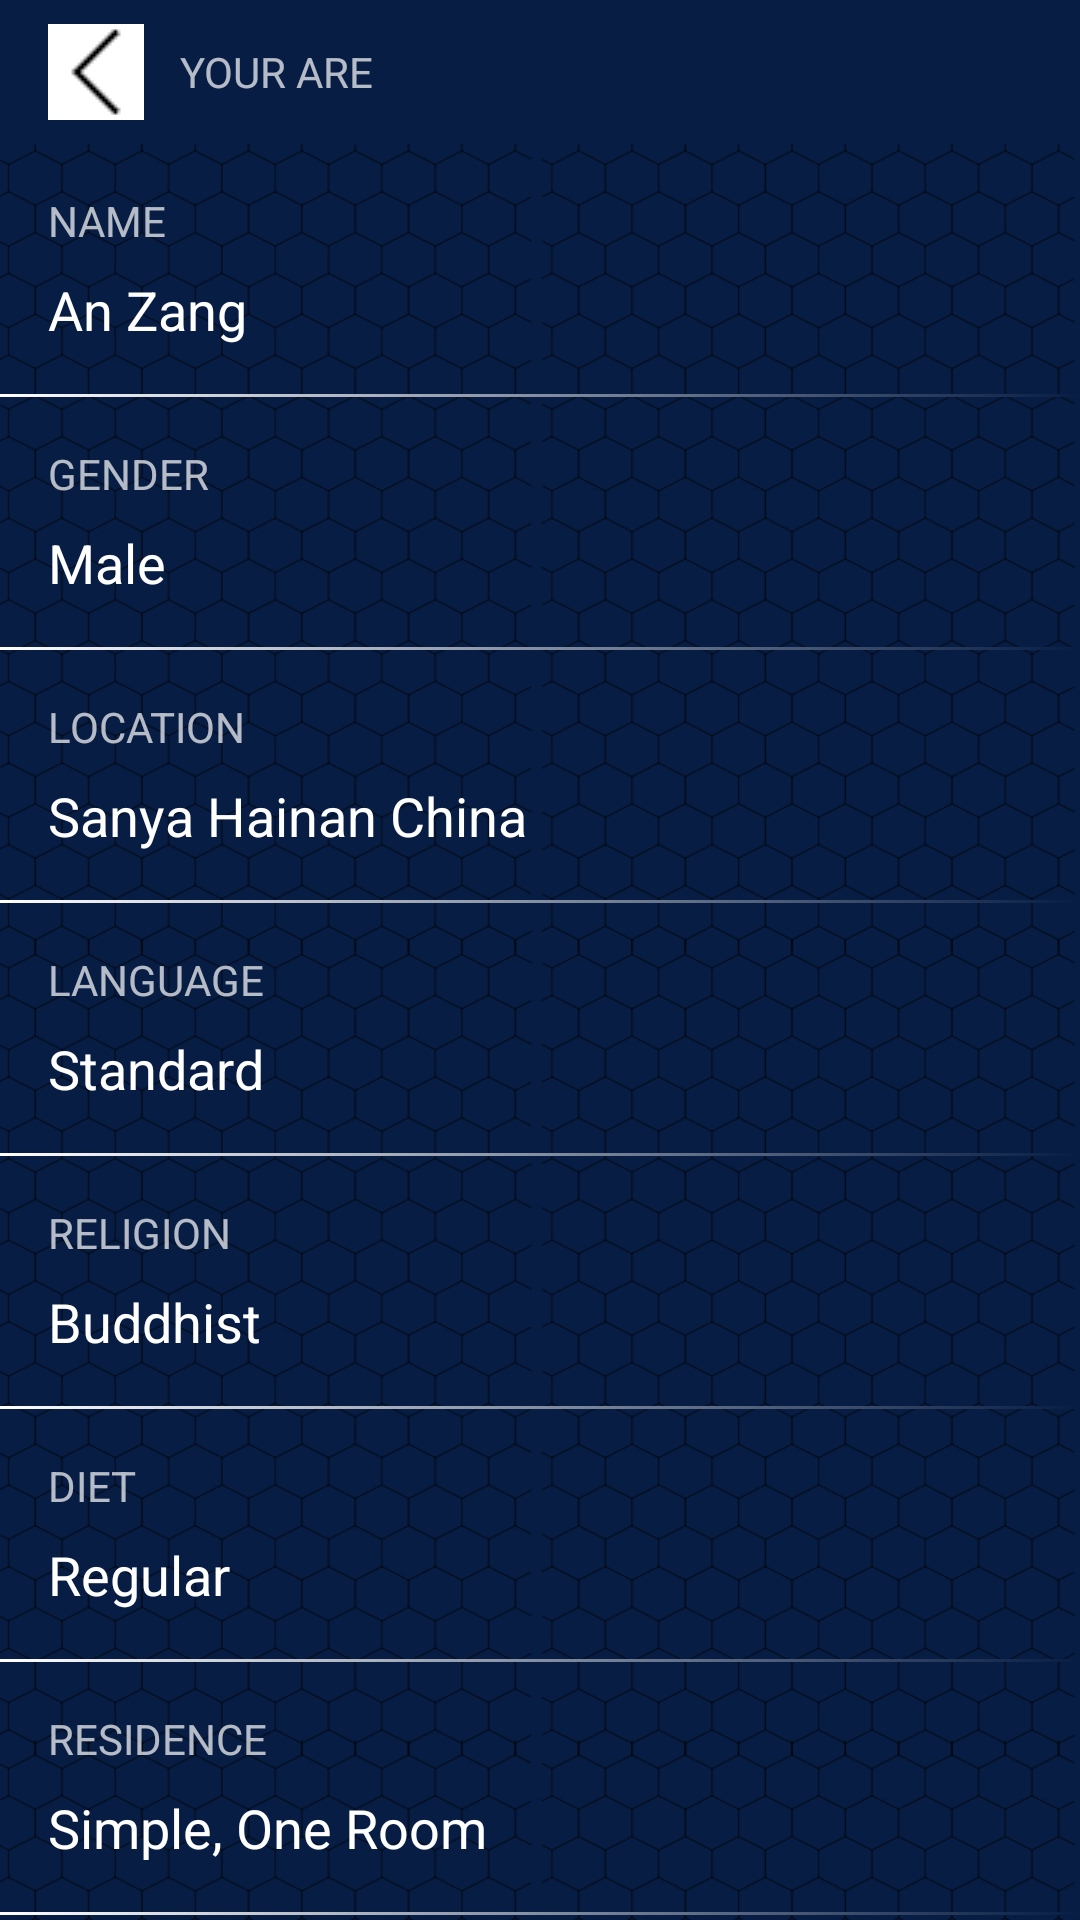

Named icons in this screenshot (1080px x 1920px) and their bounding boxes, [x1,y1,x2,y2]:
arrows back: [48,24,144,120]
